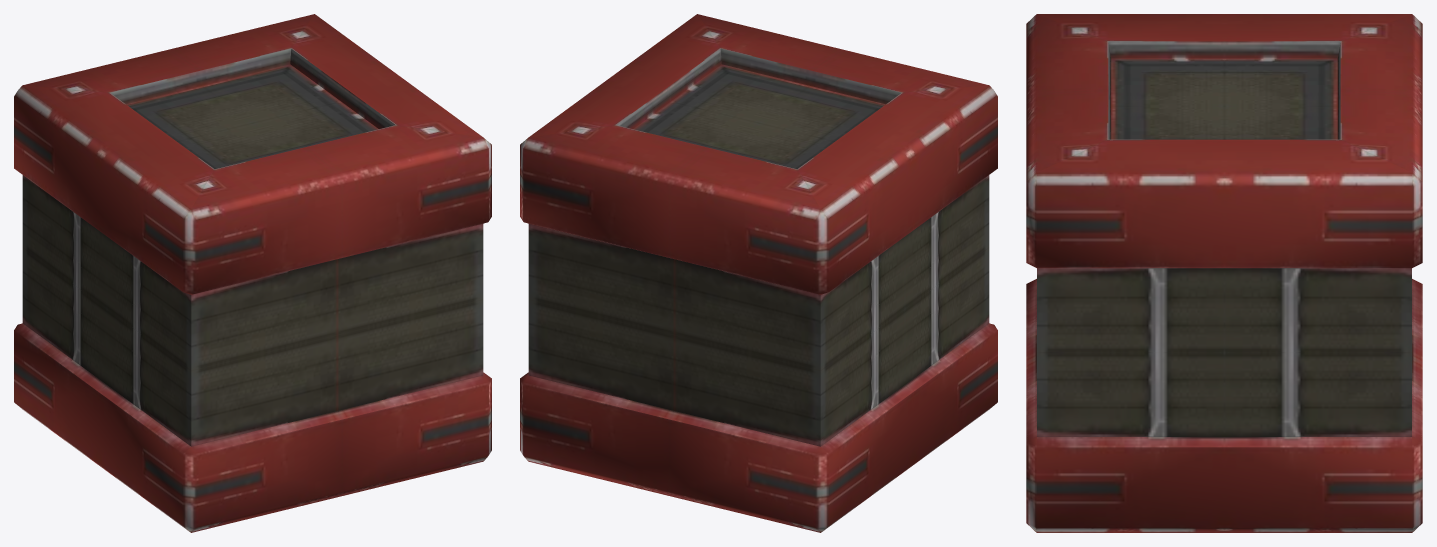
Rendered from Part - box1-BawRqDTk.glb.
3 renders of one model, left to right at view 1: azimuth 30°, elevation 25°; view 2: azimuth 150°, elevation 25°; view 3: azimuth 270°, elevation 25°, orthographic. The views are drawn at different scales.
Parts seen in each view (by area): view 1: box1; view 2: box1; view 3: box1.
Part boxes in pixels (x1,y1,x2,y2): box1: (14, 14, 491, 532); box1: (520, 14, 997, 532); box1: (1026, 14, 1422, 532).
Size of the model in its own units: 1 by 1.02 by 1.
1 material, 1 textured.
